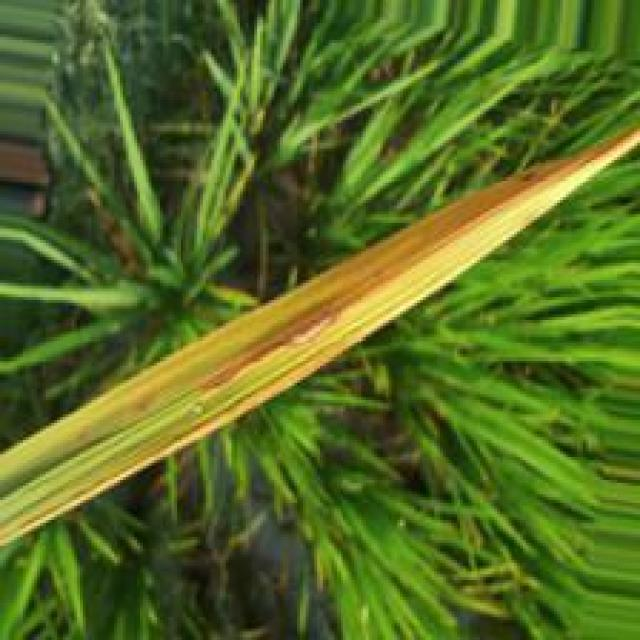Leaf_Blast: (199, 143, 603, 400)
